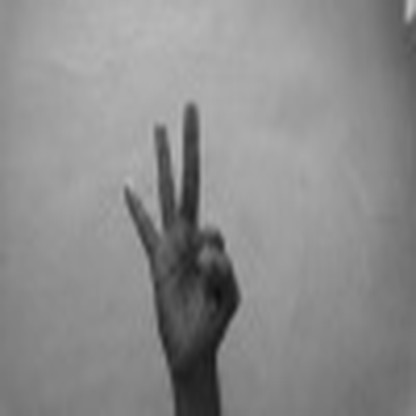f: (118, 94, 249, 366)
